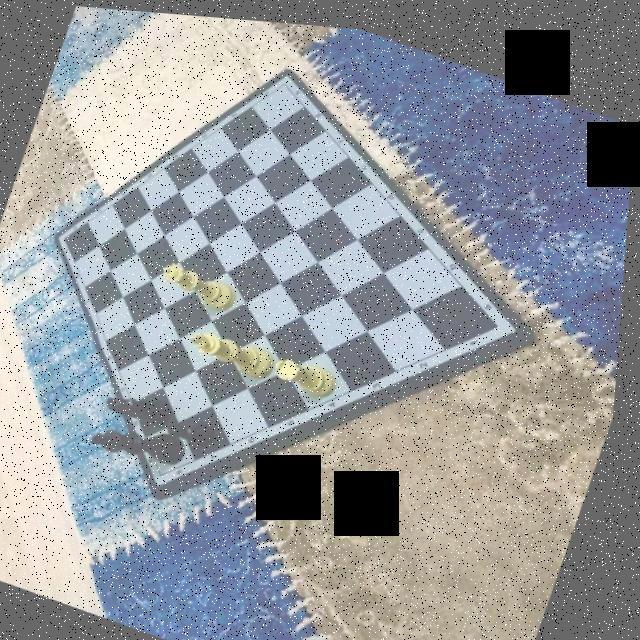chess-table-corners: (484, 304, 516, 332), (56, 222, 80, 248), (272, 69, 297, 93), (155, 462, 178, 482)
